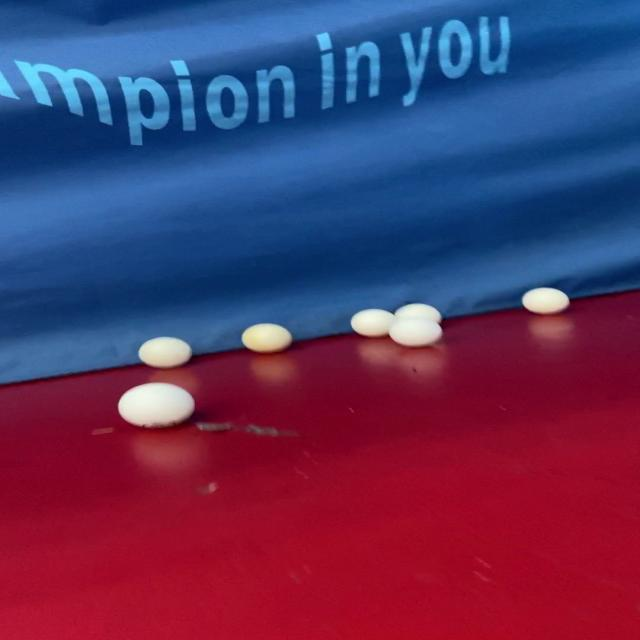ping-pong-ball: (99, 376, 207, 432), (230, 322, 308, 356), (510, 279, 580, 316), (134, 331, 198, 371), (384, 296, 448, 331), (382, 318, 446, 352), (338, 303, 398, 338)
